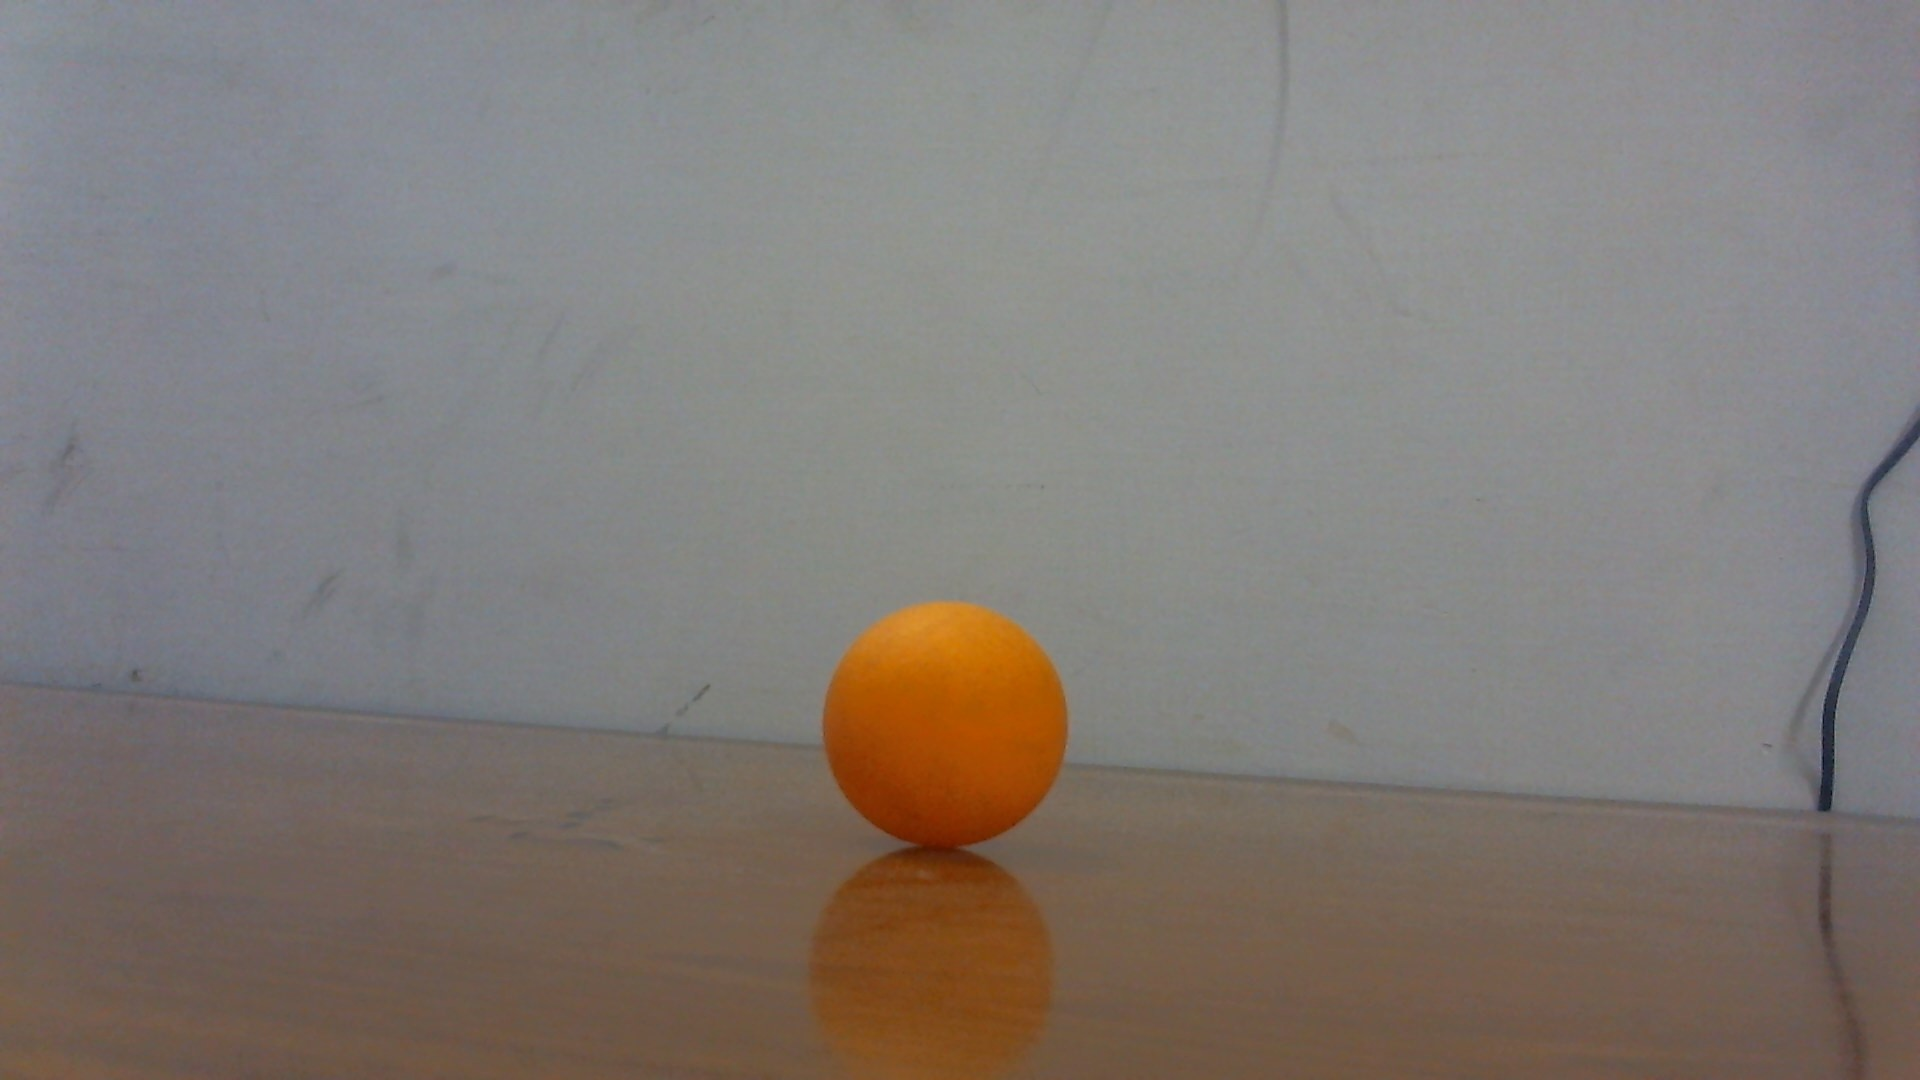ball: (822, 604, 1069, 852)
